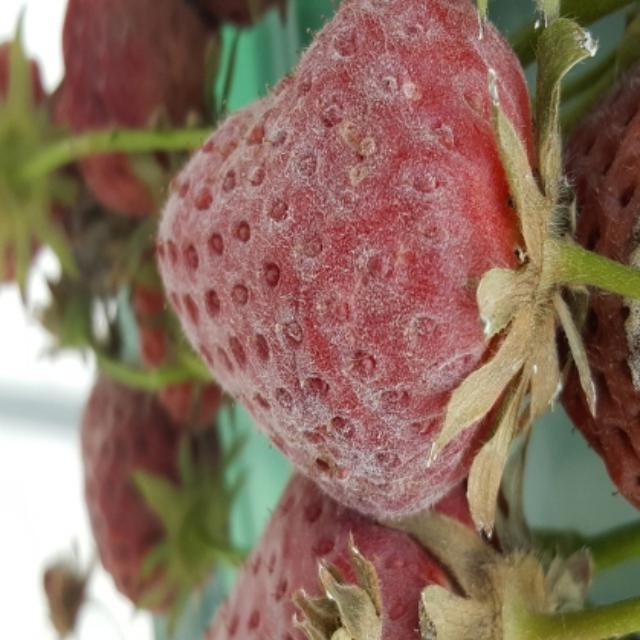Powdery Mildew Fruit: (153, 0, 559, 516), (202, 460, 538, 638), (559, 50, 640, 518)
